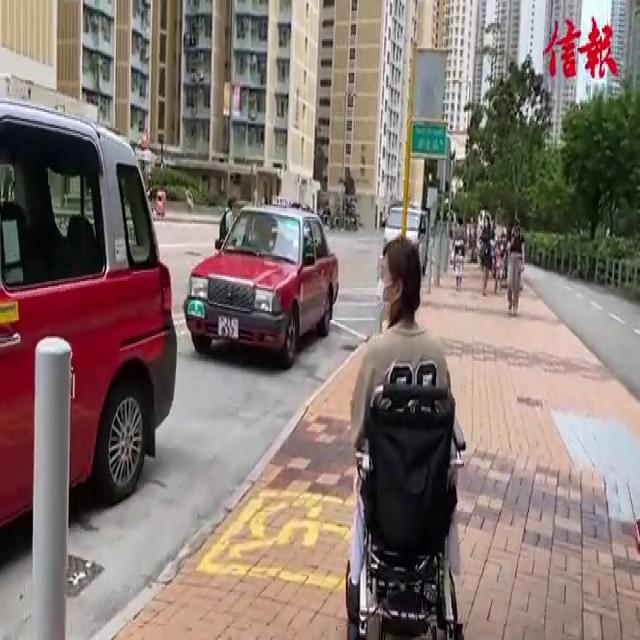wheelchairs: (337, 361, 466, 640)
